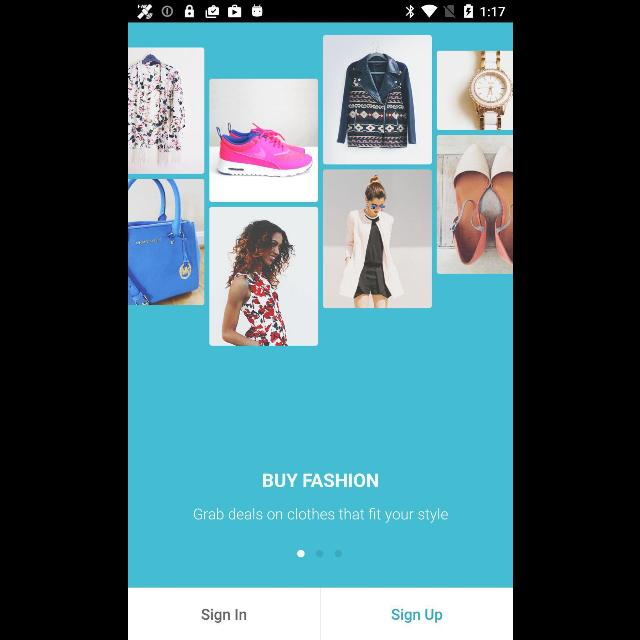image: (128, 36, 512, 347)
pageindicator: (296, 550, 342, 558)
text: (193, 508, 447, 522), (262, 473, 378, 487)
textbutton: (127, 588, 319, 640), (320, 588, 512, 640)
uppertaskbar: (128, 1, 512, 23)
